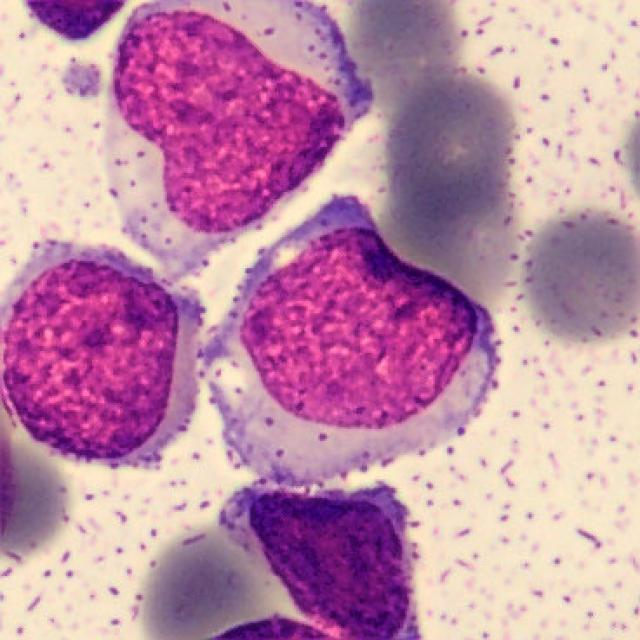Mieloblasto: (202, 201, 499, 483), (108, 0, 372, 272), (2, 249, 197, 469), (224, 486, 416, 640)
